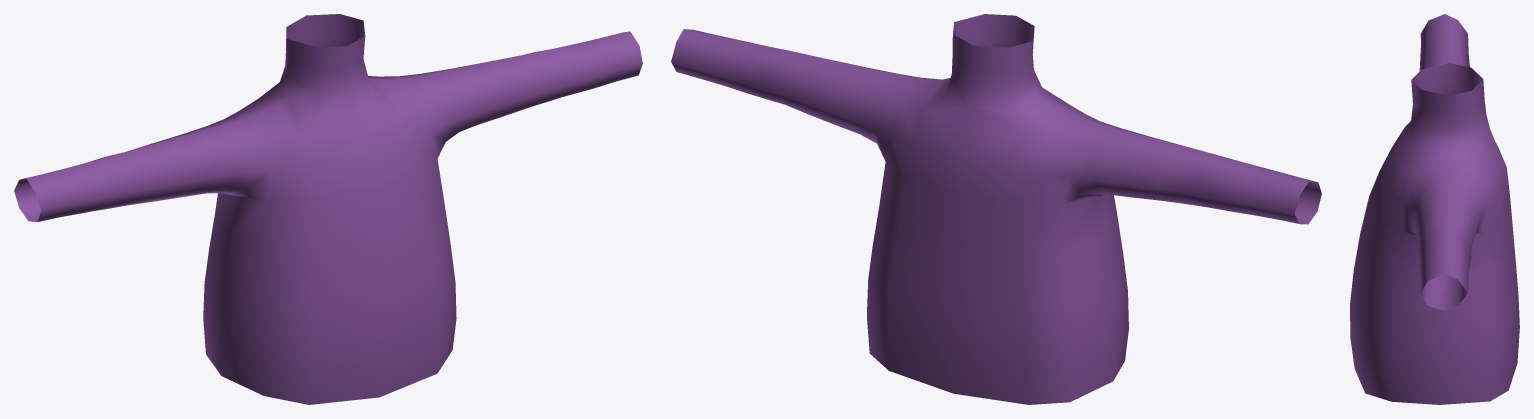
Rendered from Body_Purple_Top_2.fbx.
3 renders of one model, left to right at view 1: azimuth 30°, elevation 25°; view 2: azimuth 150°, elevation 25°; view 3: azimuth 270°, elevation 25°, orthographic. The views are drawn at different scales.
Parts seen in each view (by area): view 1: Body_Purple_Top_2; view 2: Body_Purple_Top_2; view 3: Body_Purple_Top_2.
Boxes of the visible parts, x1,y1,x2,y2 form: Body_Purple_Top_2: (14,14,642,404); Body_Purple_Top_2: (671,14,1321,404); Body_Purple_Top_2: (1350,14,1519,404).
Size of the model in its own units: 95.86 by 49.84 by 26.46.
